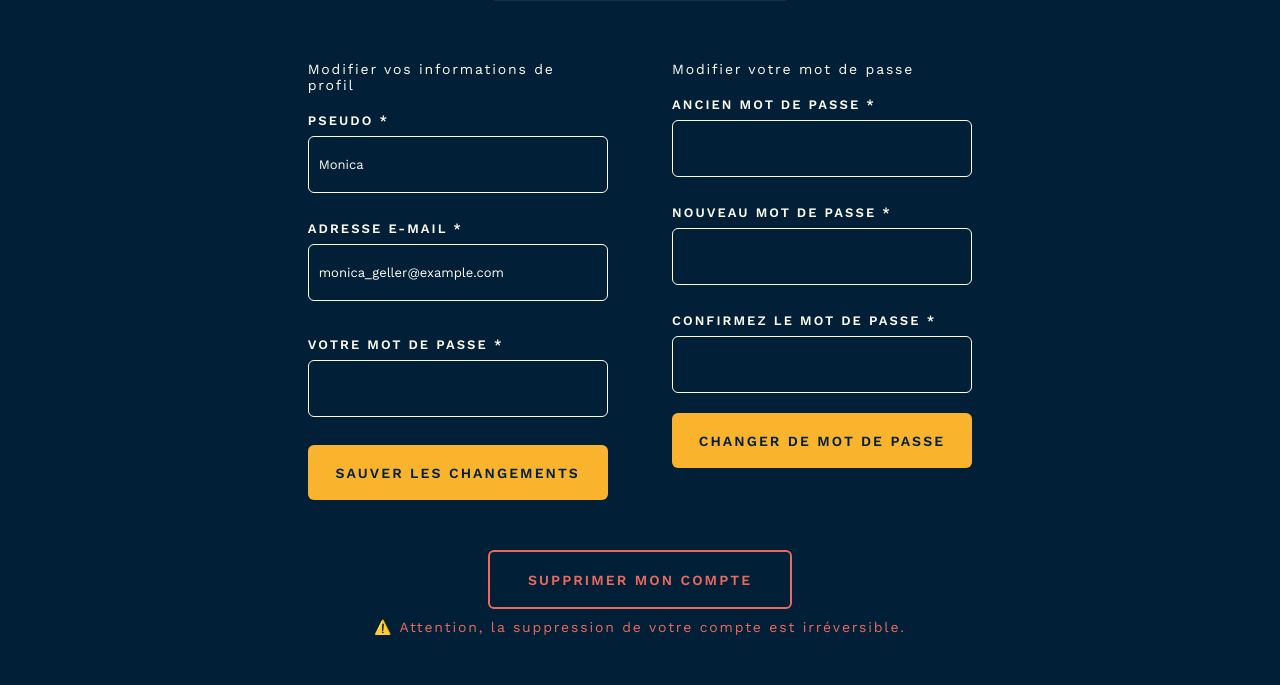
Test: Profile page component tests › should open modale on click on "Supprimer mon compte" button
The width and height of the screenshot is (1280, 685).
(page scrolled)
Step 1. Click the button "Supprimer mon compte" → (640, 580), box [488, 550, 792, 609]
(page scrolled)
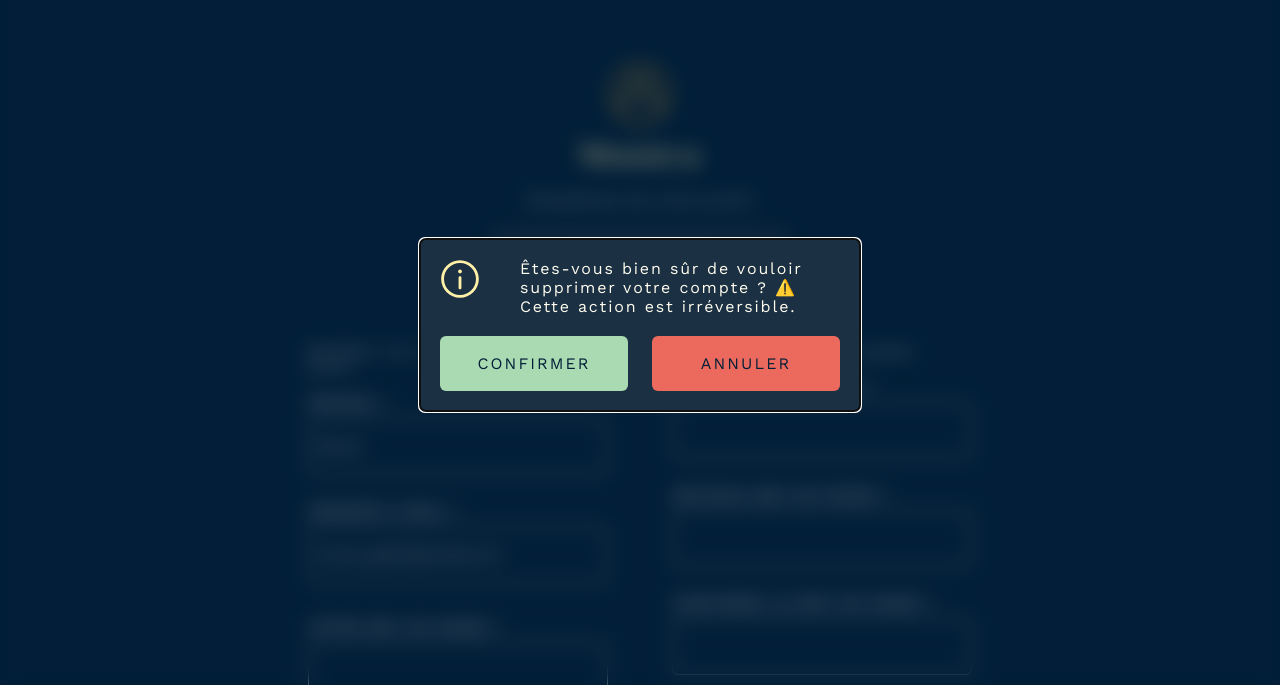
Check: the text "Êtes-vous bien sûr de vouloir supprimer votre compte ? ⚠️ Cette action est irréversible." is shown, box [520, 259, 802, 316]
